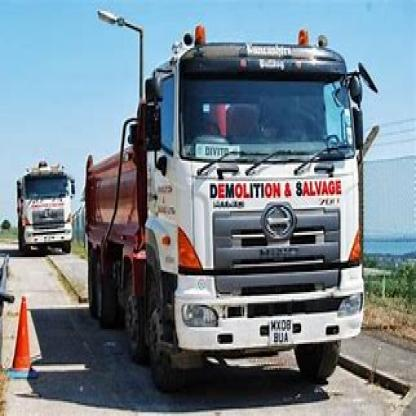dump_truck: (74, 28, 376, 372)
